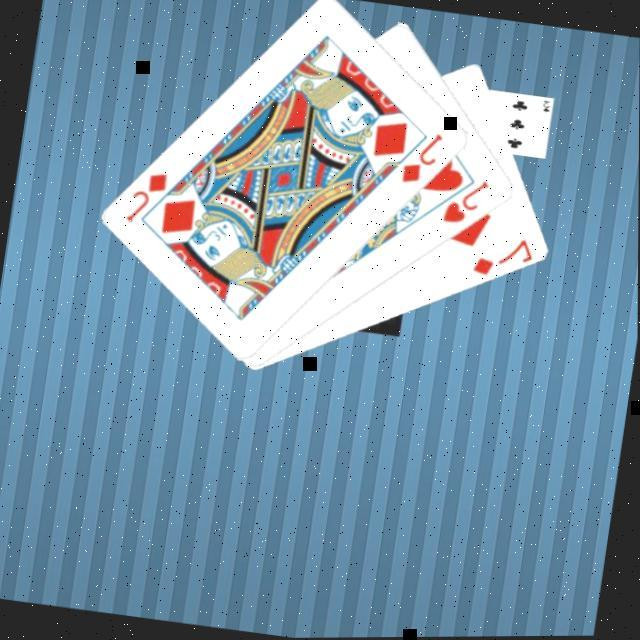7D: (471, 228, 539, 284)
JD: (122, 162, 174, 229), (398, 124, 448, 189)
JH: (440, 172, 495, 230)
